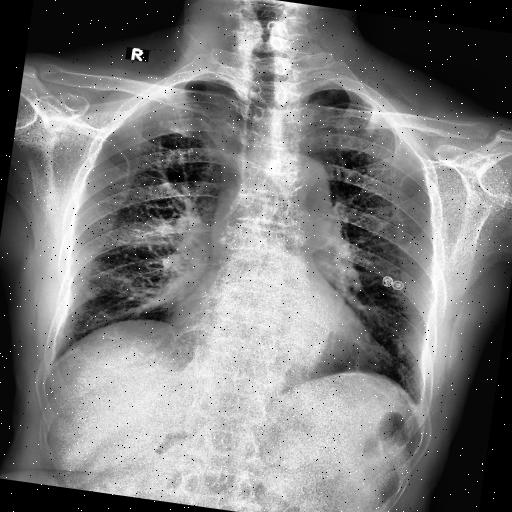0- Aortic enlargement: (274, 154, 346, 250), (270, 150, 333, 222)
13- Pulmonary fibrosis: (392, 336, 406, 357)
3- Cardiomegaly: (172, 272, 379, 371)
8- Nodule-Mass: (80, 291, 98, 302), (84, 290, 94, 300)
